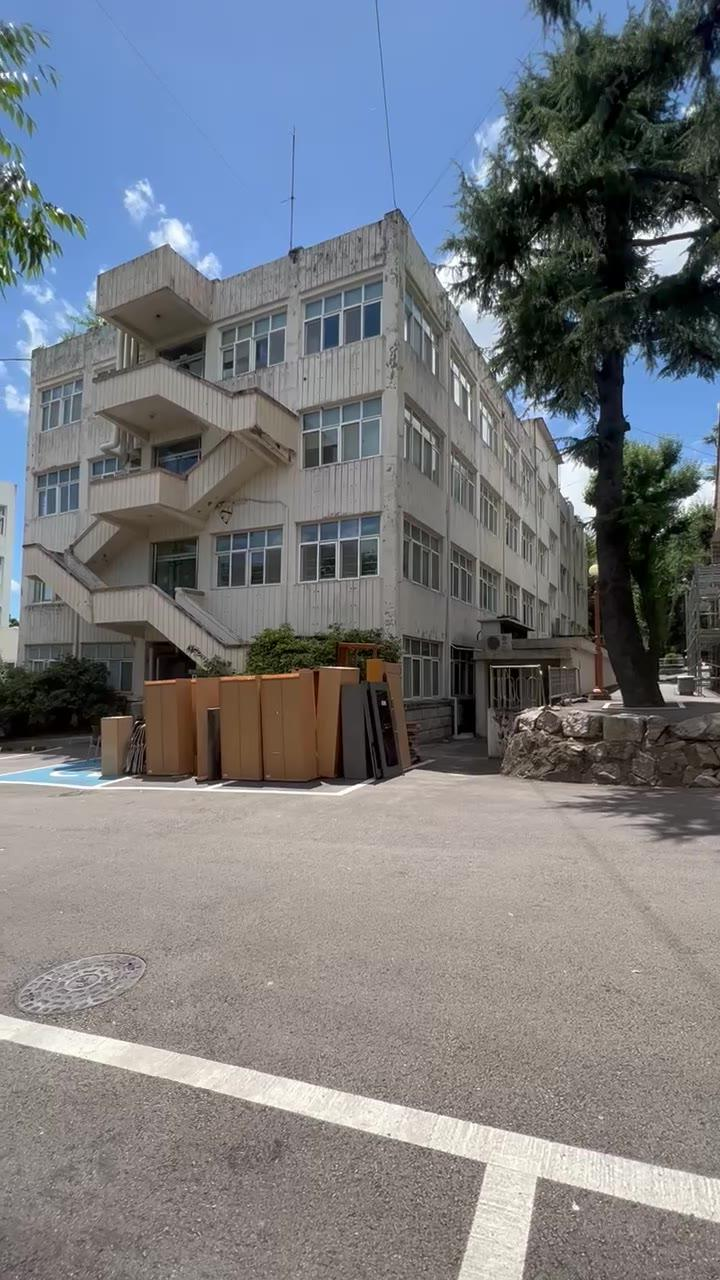building: (40, 252, 488, 636)
